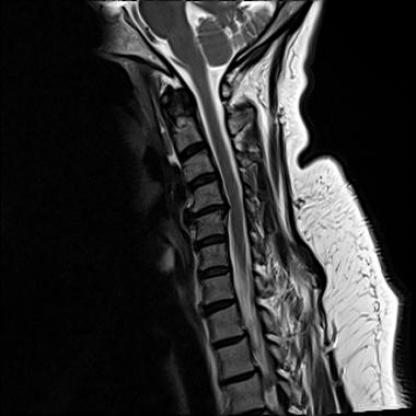Disc Bulgerotation: (186, 172, 218, 190), (175, 144, 208, 160), (188, 204, 225, 218)
Disc Protrusionrotation: (189, 204, 225, 218)
